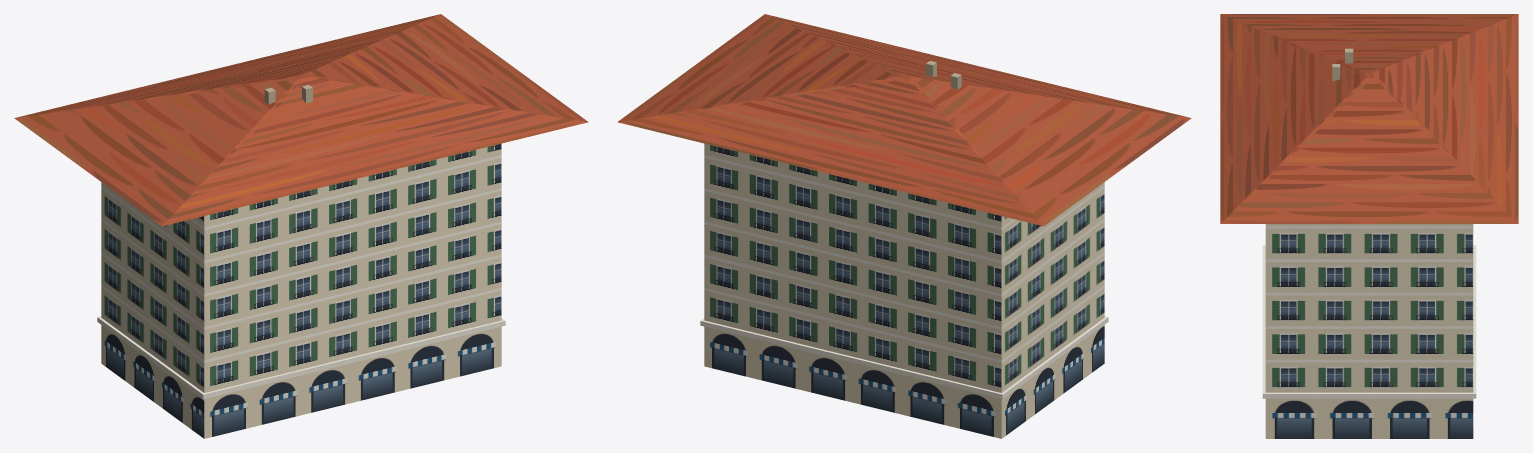
The model's file is belle_epoque_b.glb.
3 renders of one model, left to right at view 1: azimuth 30°, elevation 25°; view 2: azimuth 150°, elevation 25°; view 3: azimuth 270°, elevation 25°, orthographic.
Parts seen in each view (by area): view 1: building; view 2: building; view 3: building.
Boxes of the visible parts, x1=… form: building: x1=14, y1=14, x2=588, y2=438; building: x1=617, y1=14, x2=1191, y2=438; building: x1=1220, y1=14, x2=1518, y2=438.
Bounding box in the file's own units: 43.07 × 28.2 × 25.84.
Materials: 5 (3 with a texture image).
